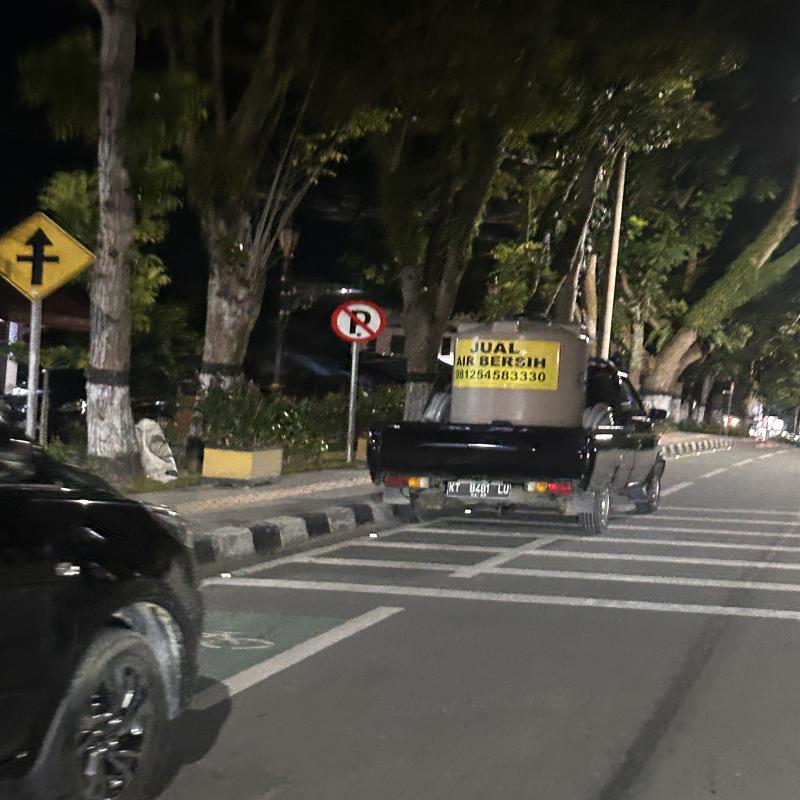license plate on a car: (447, 478, 510, 500)
